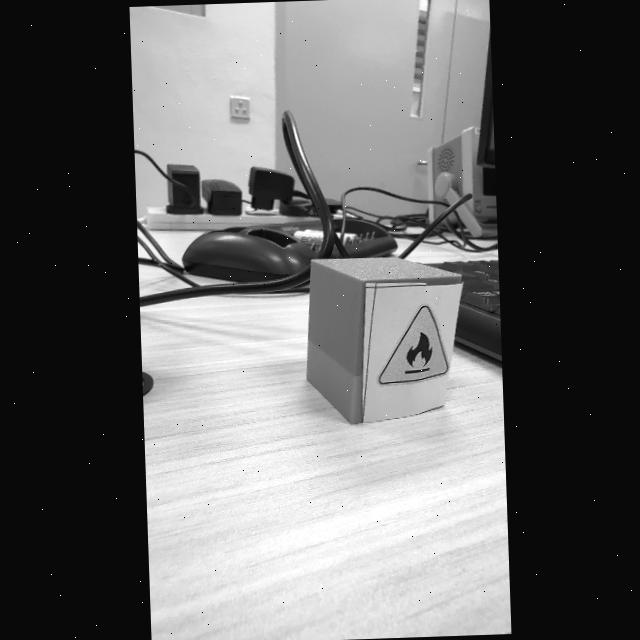Fire: (378, 305, 447, 385)
